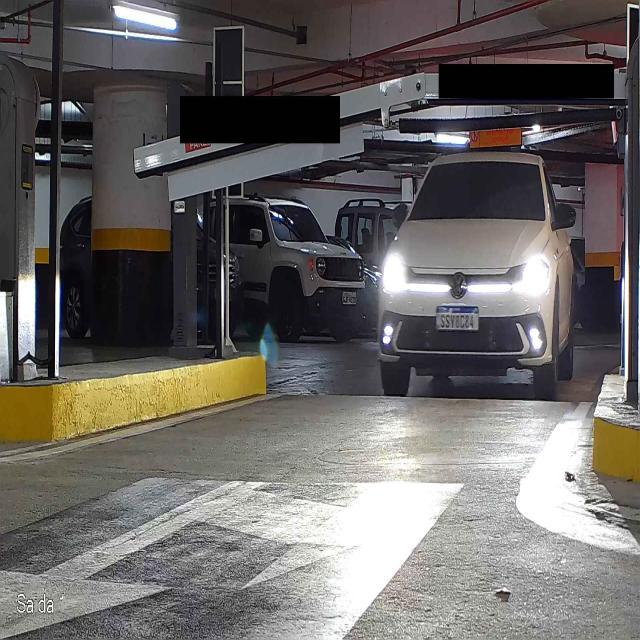mercosul_plate: (434, 304, 480, 332)
